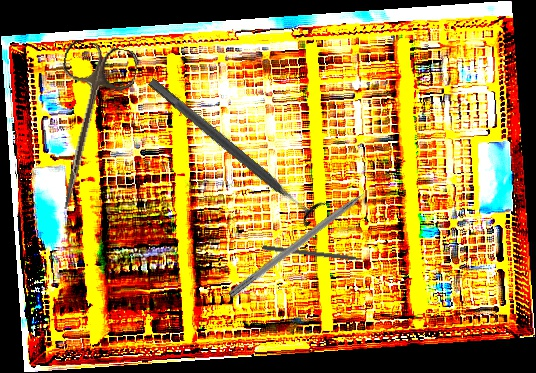Fixation Ring: (139, 67, 328, 230)
Iris Scissors: (33, 37, 141, 218)
Pusher: (227, 175, 388, 301), (262, 245, 377, 265)
